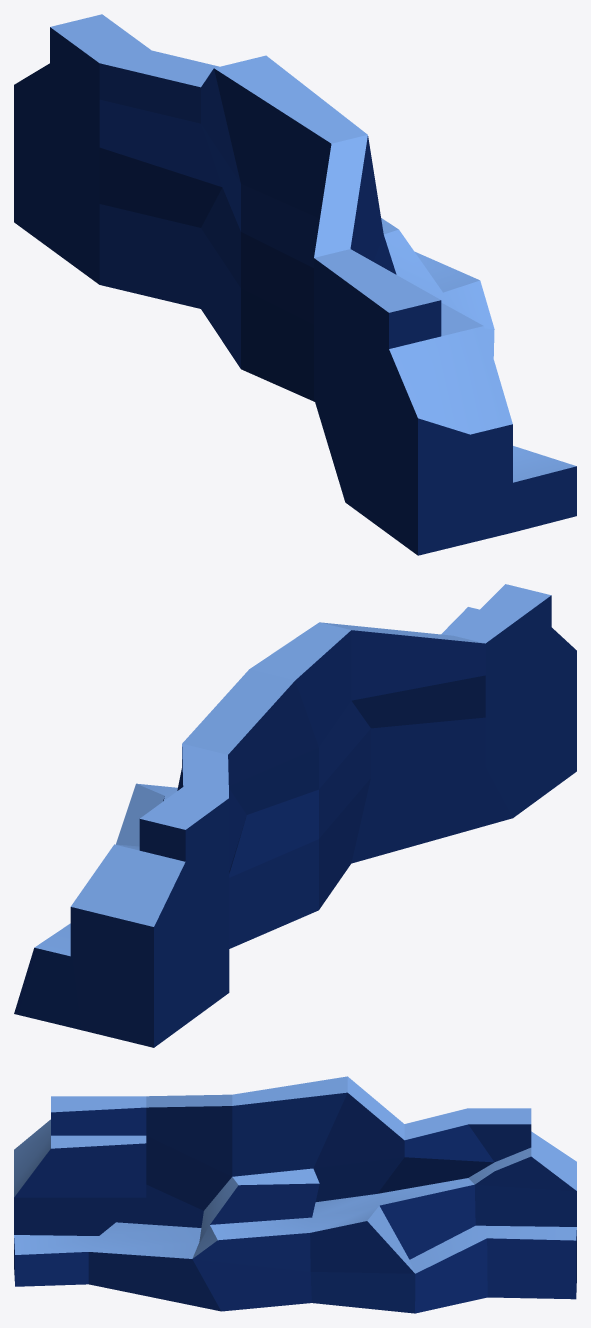
Rendered from Rock_Wall_1.fbx.
The picture shows the model from 3 angles, top to bottom: view 1: azimuth 30°, elevation 25°; view 2: azimuth 150°, elevation 25°; view 3: azimuth 270°, elevation 25°; orthographic projection. The views are drawn at different scales.
Parts seen in each view (by area): view 1: Rock_wall_1; view 2: Rock_wall_1; view 3: Rock_wall_1.
Part boxes in pixels (bbox=[...]): Rock_wall_1: bbox=[14, 14, 576, 555]; Rock_wall_1: bbox=[14, 584, 576, 1047]; Rock_wall_1: bbox=[14, 1076, 576, 1313].
Size of the model in its own units: 102 by 115 by 325.
